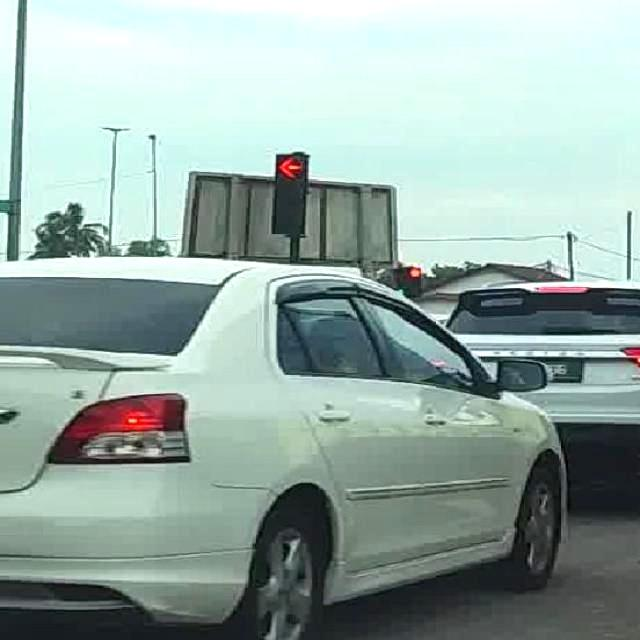Red: (269, 152, 310, 235), (403, 268, 421, 296)
